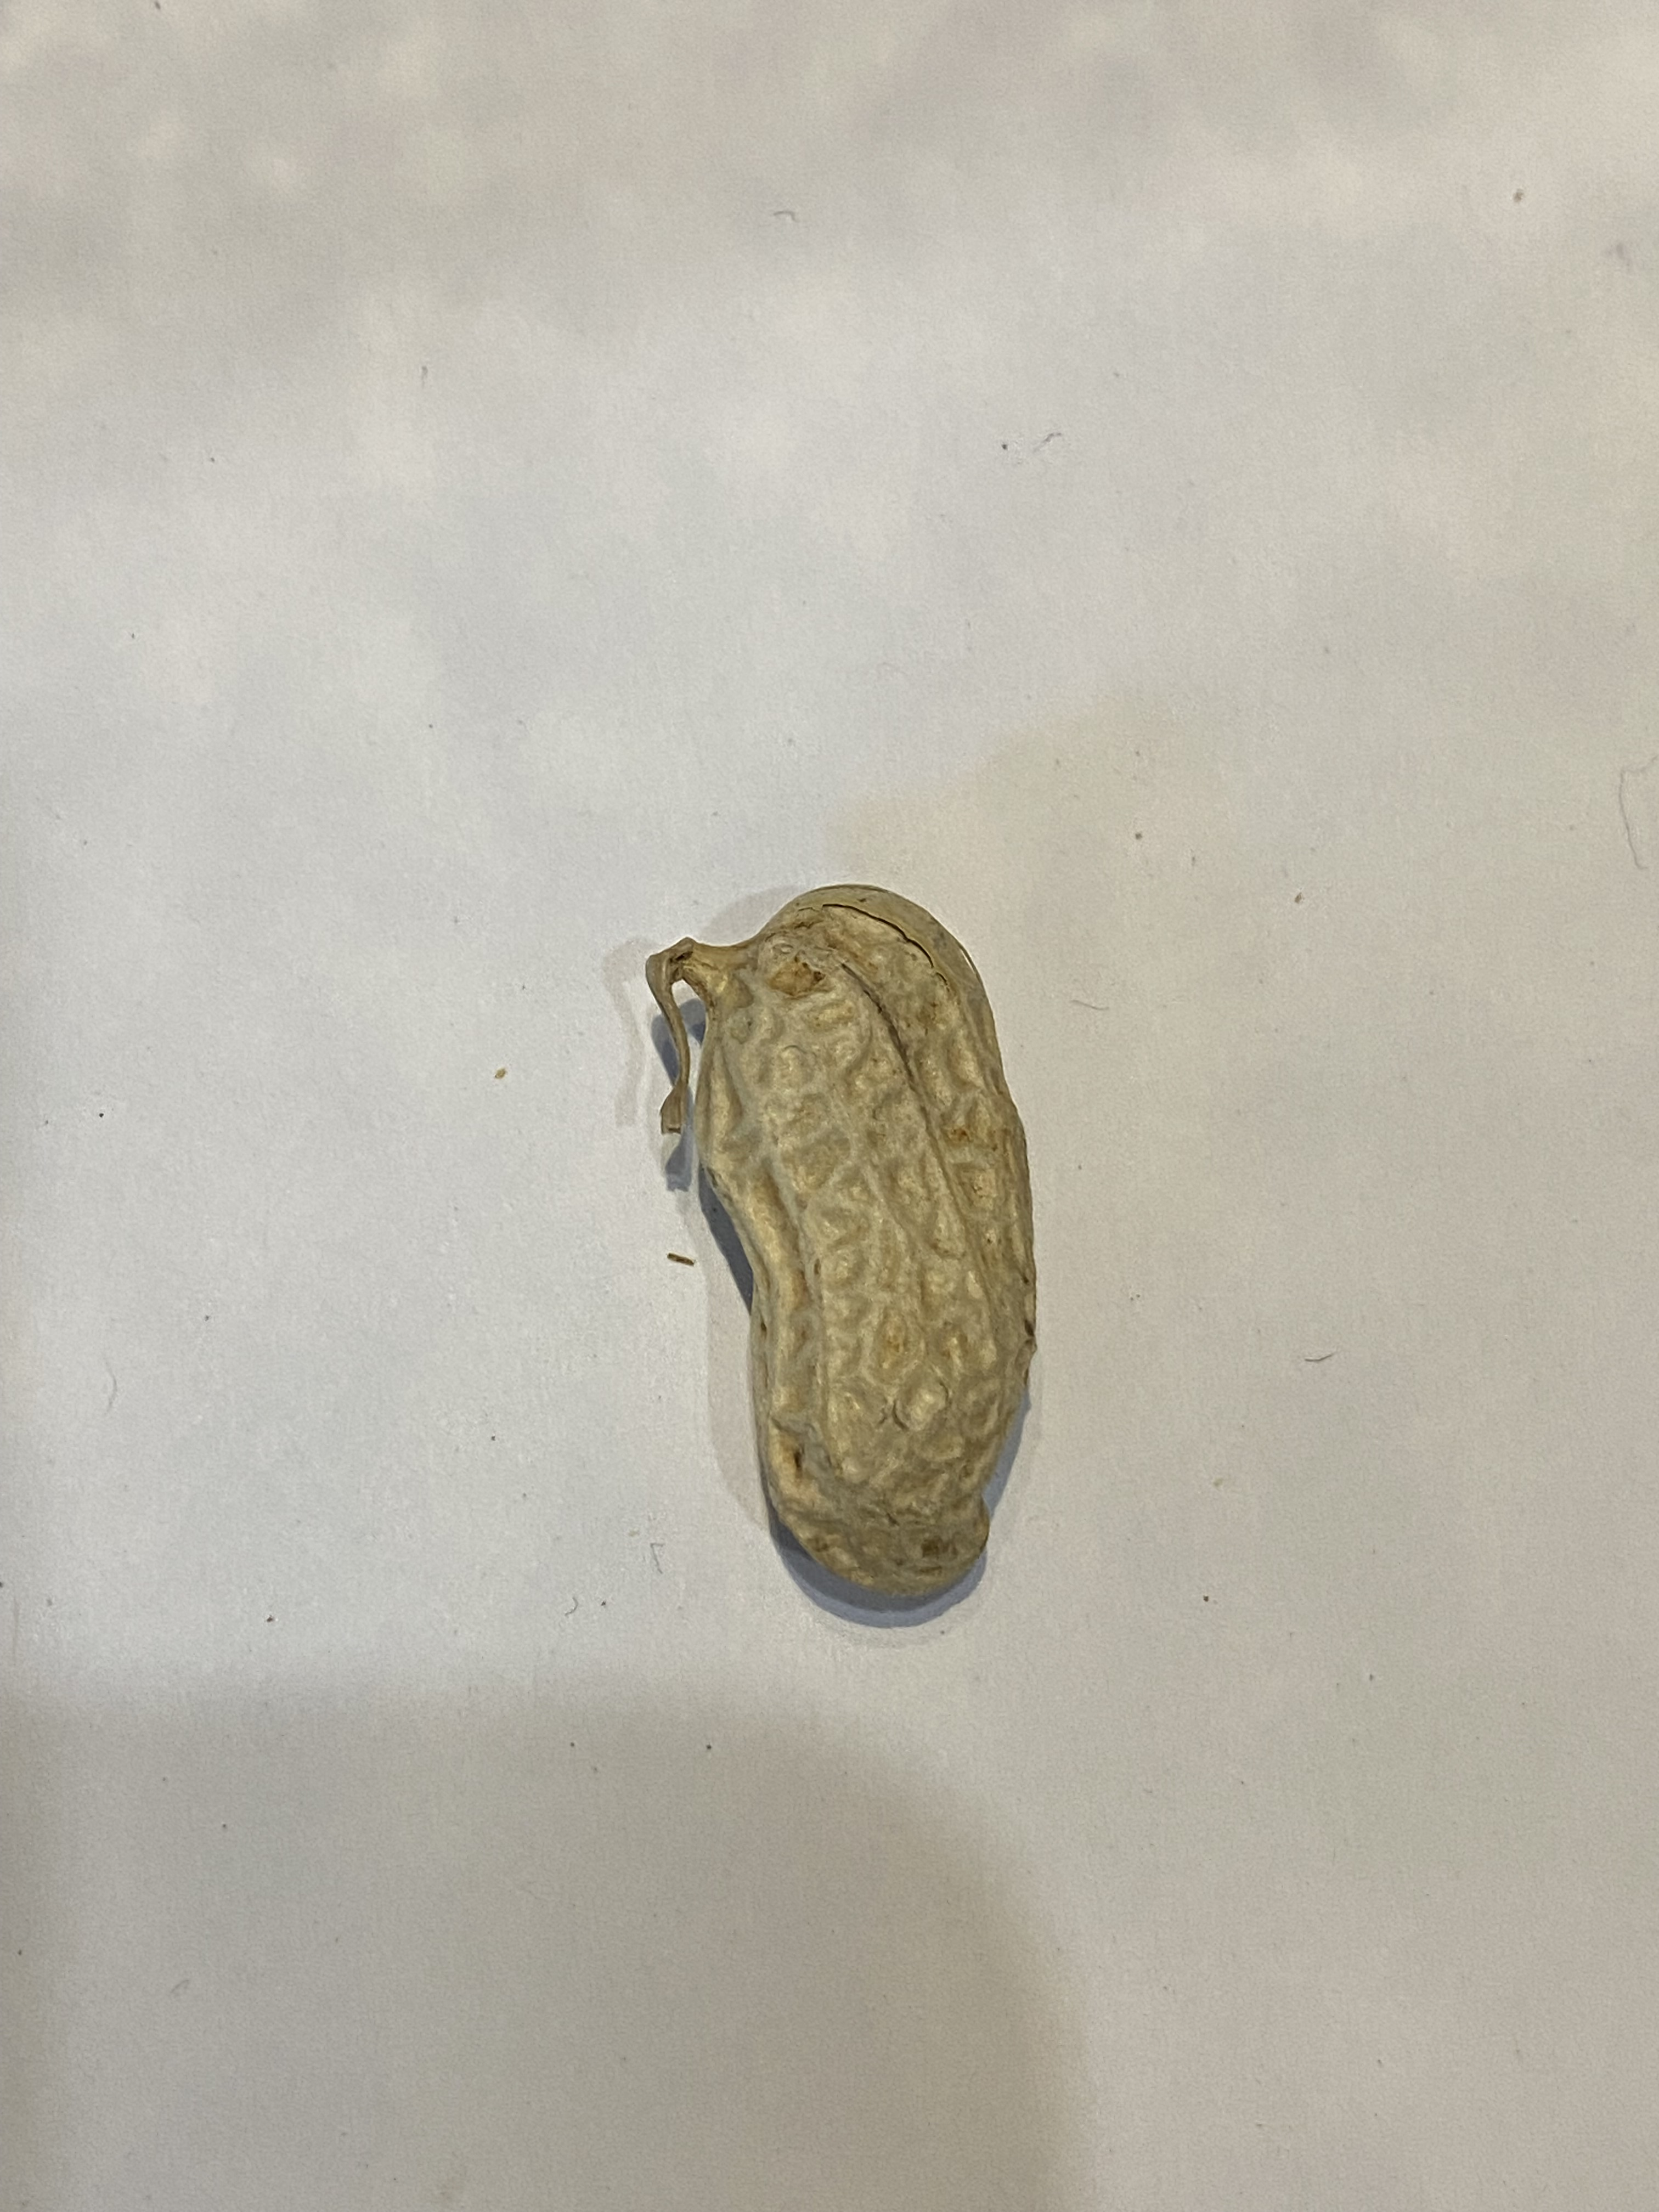kacang2: (622, 873, 1072, 1609)
